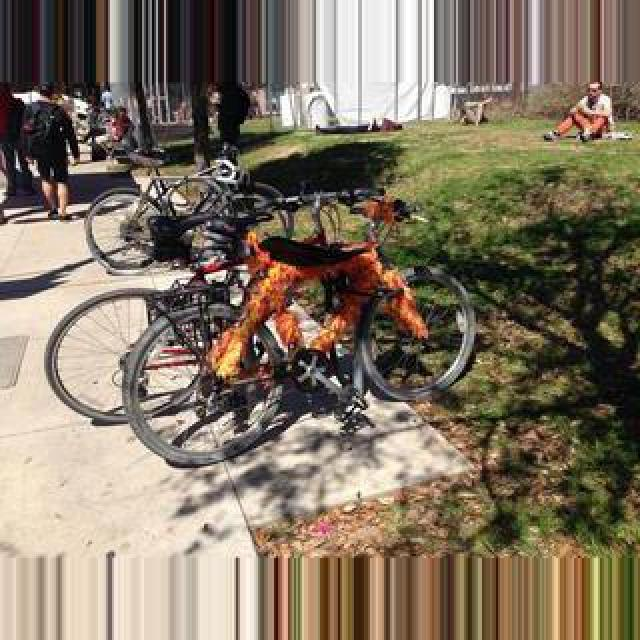MC-Bike: (26, 90, 80, 224), (542, 82, 612, 142)
Person: (126, 194, 482, 470), (84, 152, 266, 274)
